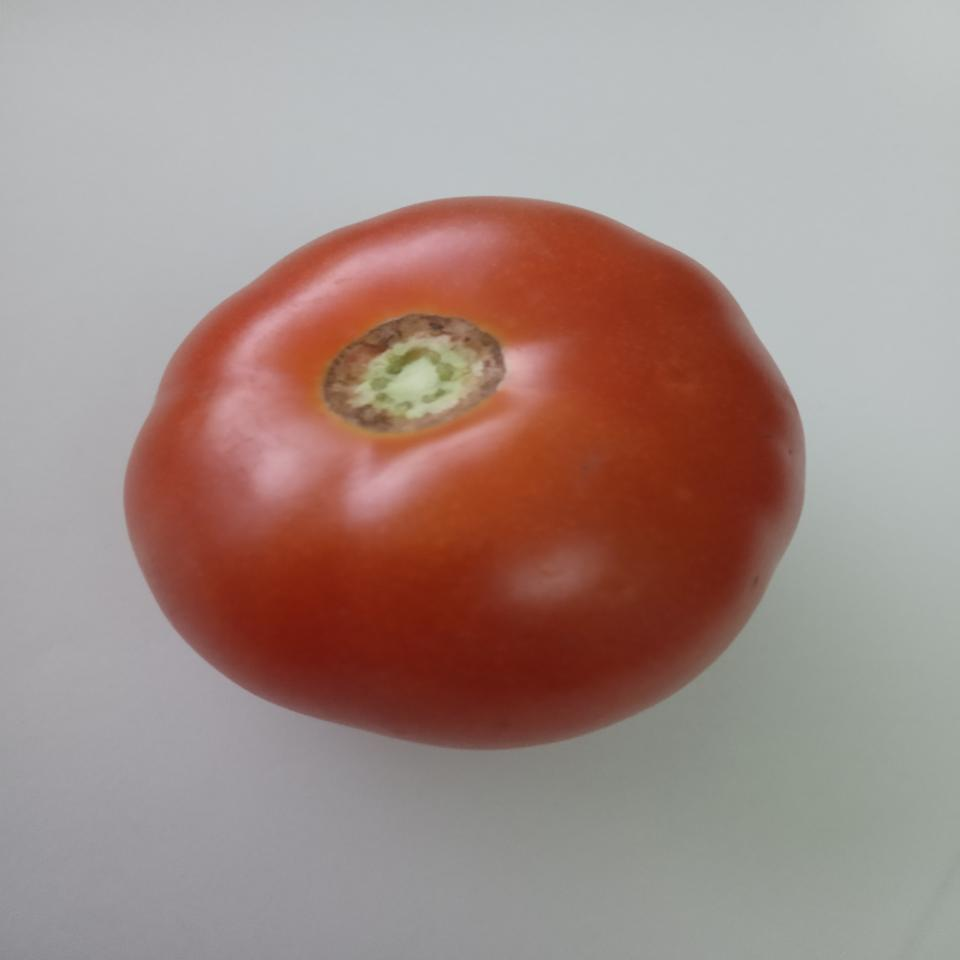Healthy: (105, 176, 831, 759)
